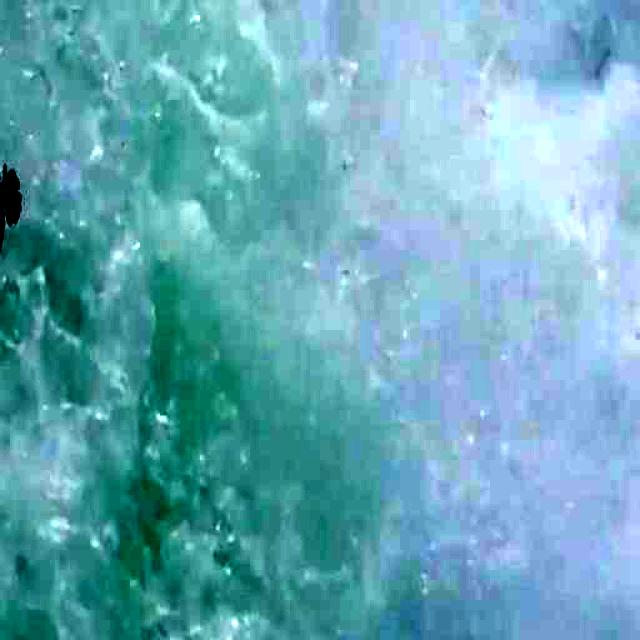airplane: (0, 125, 25, 275)
